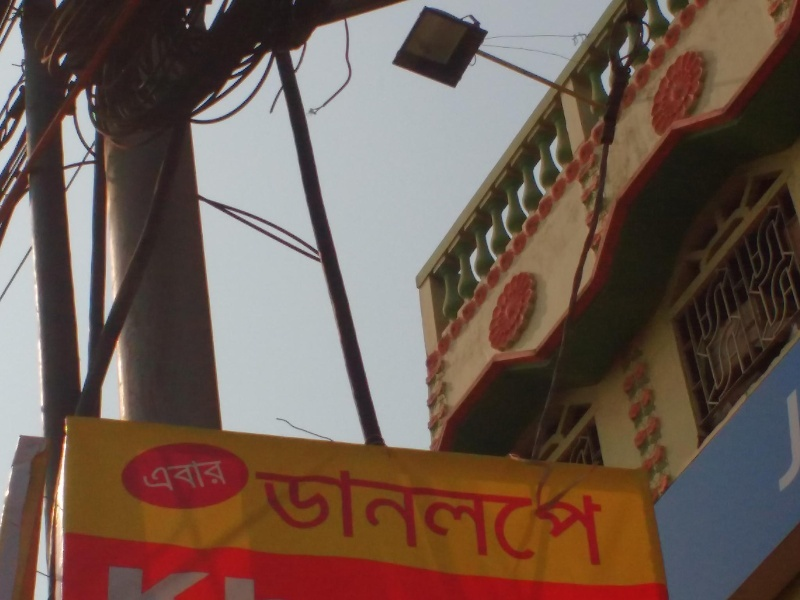text: (257, 463, 272, 570), (273, 463, 288, 570), (289, 463, 304, 570), (305, 463, 320, 570), (321, 463, 336, 570), (337, 463, 352, 570), (353, 463, 368, 570), (369, 463, 384, 570), (385, 463, 400, 570), (401, 463, 416, 570), (417, 463, 432, 570), (433, 463, 448, 570), (449, 463, 464, 570), (465, 463, 480, 570), (481, 463, 496, 570), (497, 463, 512, 570), (513, 463, 528, 570), (529, 463, 544, 570), (545, 463, 560, 570), (561, 463, 576, 570), (577, 463, 592, 570), (593, 463, 608, 570), (113, 561, 128, 599), (129, 561, 144, 599), (145, 561, 160, 599), (161, 561, 176, 599), (177, 561, 192, 599), (193, 561, 208, 599), (209, 561, 224, 599), (225, 561, 240, 599), (241, 561, 256, 599), (251, 463, 256, 570), (161, 459, 176, 491), (177, 459, 192, 491), (193, 459, 208, 491), (209, 459, 224, 491), (147, 459, 160, 491), (257, 561, 267, 599), (609, 463, 612, 570), (106, 561, 112, 599), (225, 459, 230, 491)
